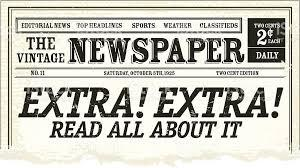Printing industry: (3, 2, 300, 168)
